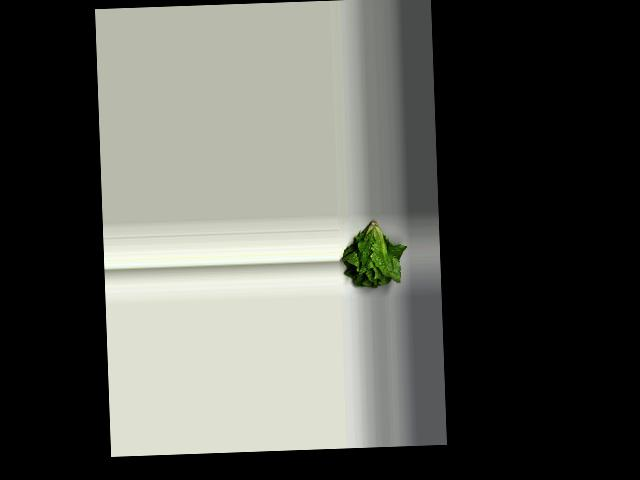lettuce: (336, 214, 406, 292)
